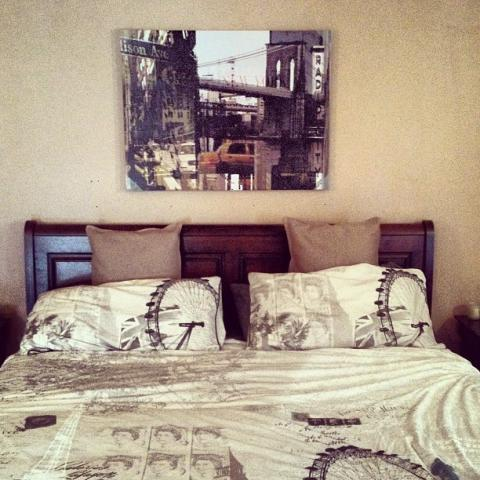car: (198, 142, 255, 176)
